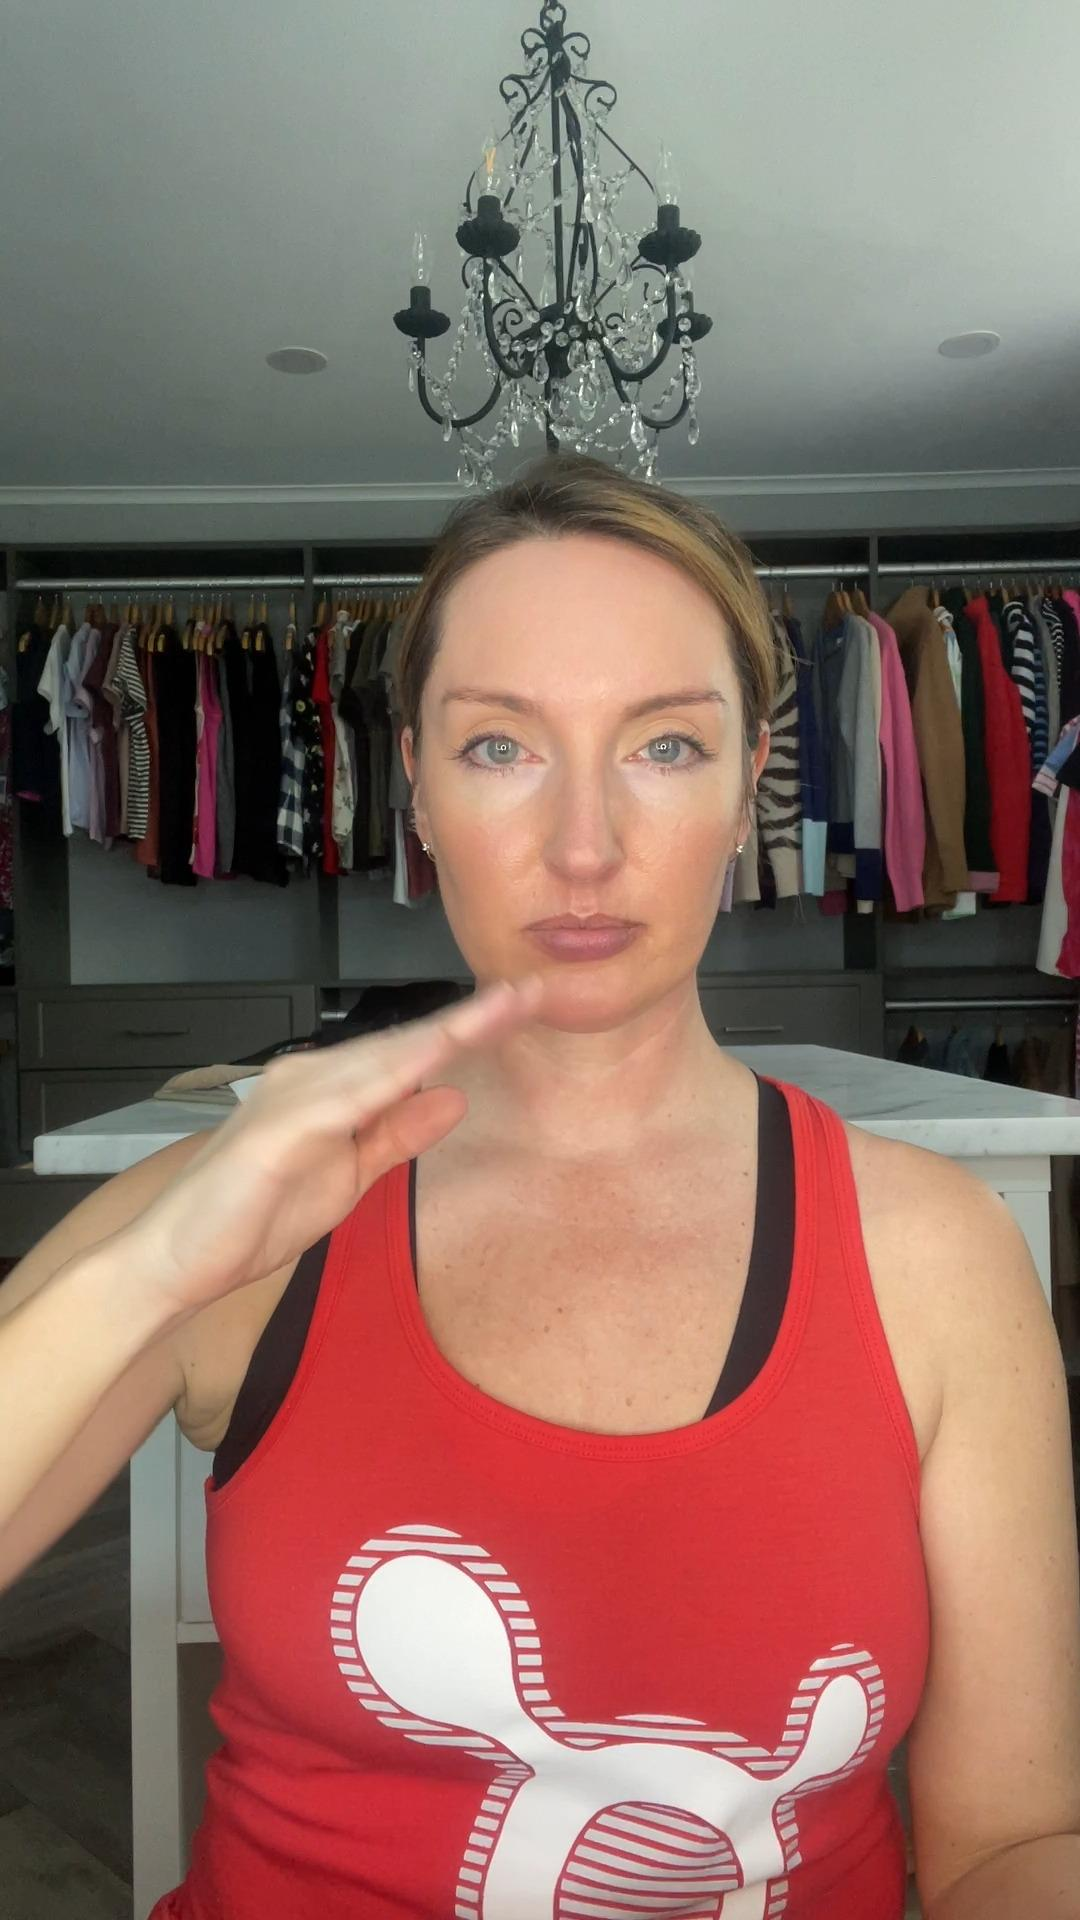Paper: (140, 986, 542, 1291)
